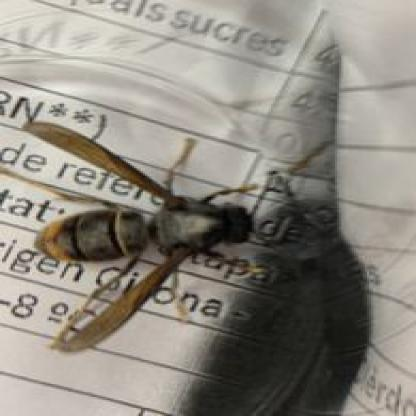Asian Hornet: (22, 116, 262, 352)
